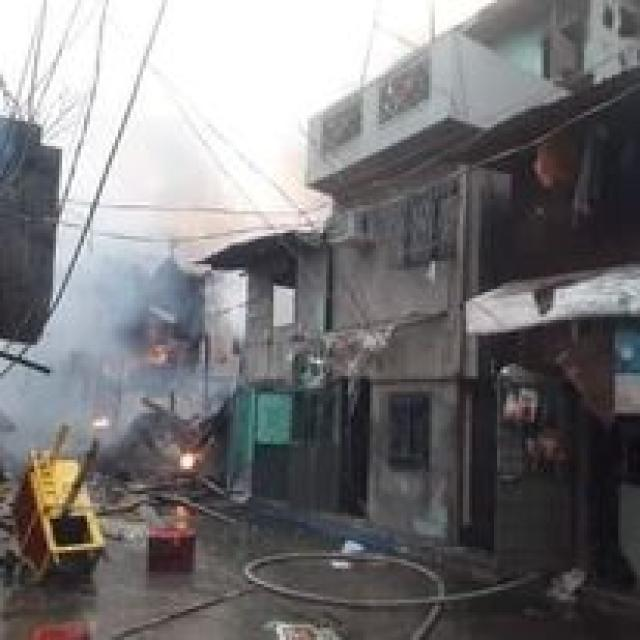Smoke: (42, 255, 198, 446)
